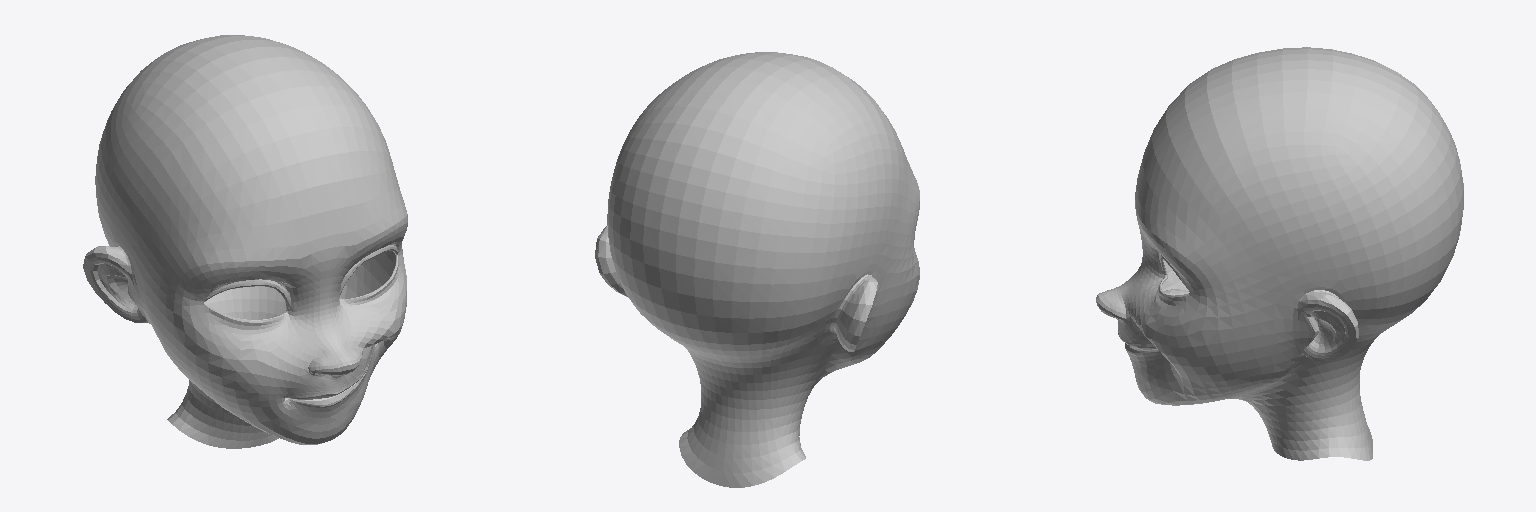
File: Mery_l_smile.obj
3 views of the same model, side by side, from view 1: azimuth 30°, elevation 25°; view 2: azimuth 150°, elevation 25°; view 3: azimuth 270°, elevation 25° (orthographic).
Size of the model in its own units: 23.75 by 32.31 by 27.53.